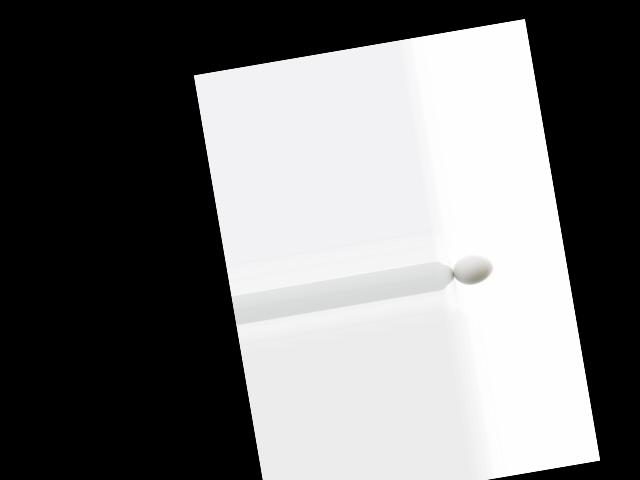egg: (450, 252, 495, 287)
